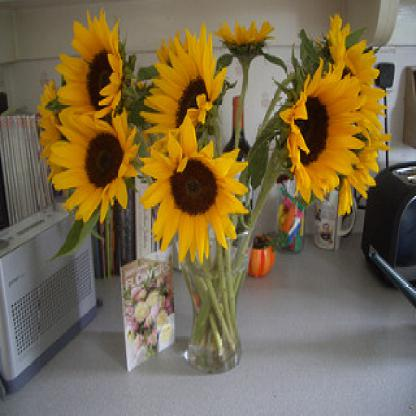SUN FLOWER: (36, 8, 407, 257)
